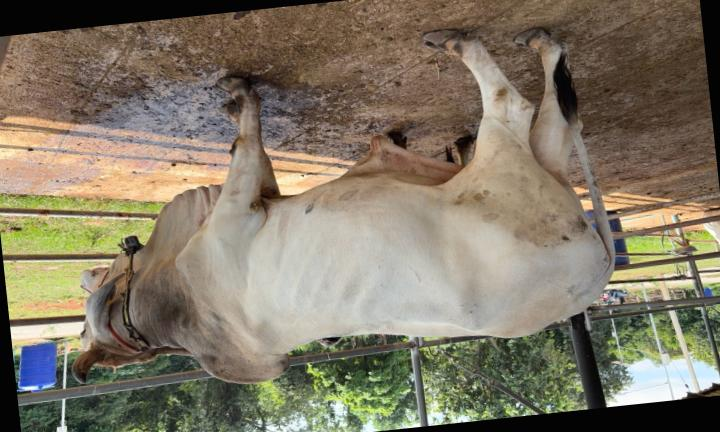Brahman: (72, 29, 614, 384), (73, 30, 614, 383)
